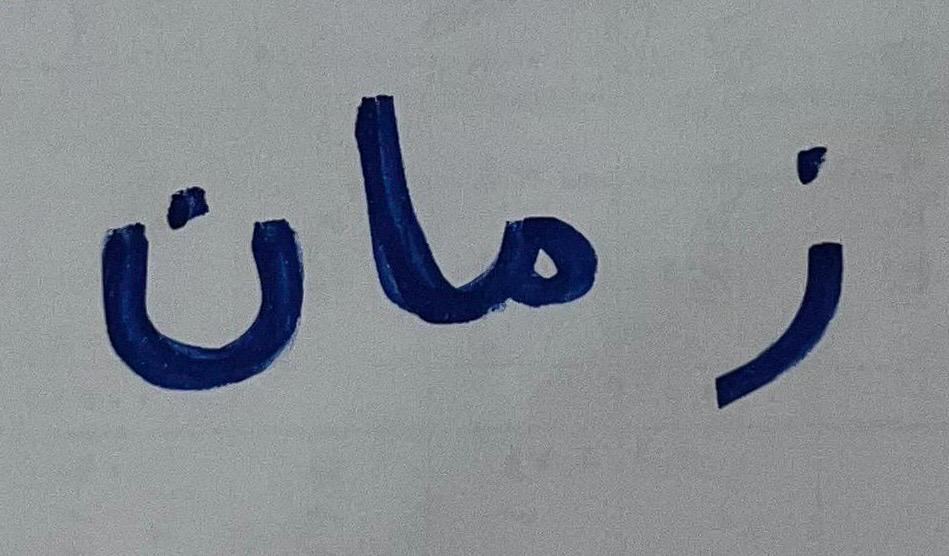meem: (456, 181, 626, 355)
teh: (70, 144, 325, 421)
teh_marbota: (337, 68, 452, 341)
zain: (665, 126, 881, 432)
